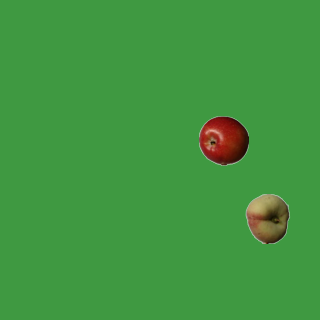Apple Braeburn: (198, 115, 248, 165)
Peach Flat: (242, 193, 292, 243)
